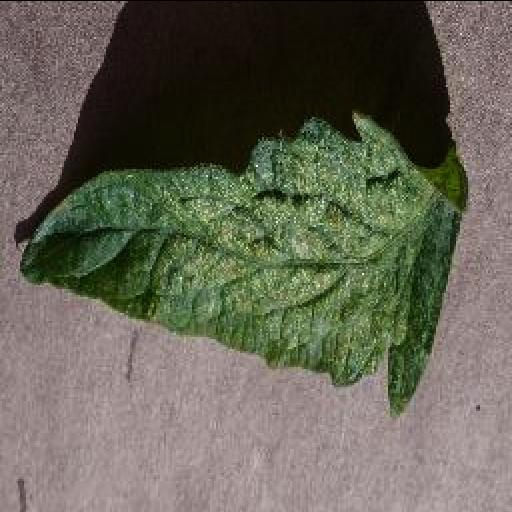disease_tomato: (15, 106, 469, 418)
